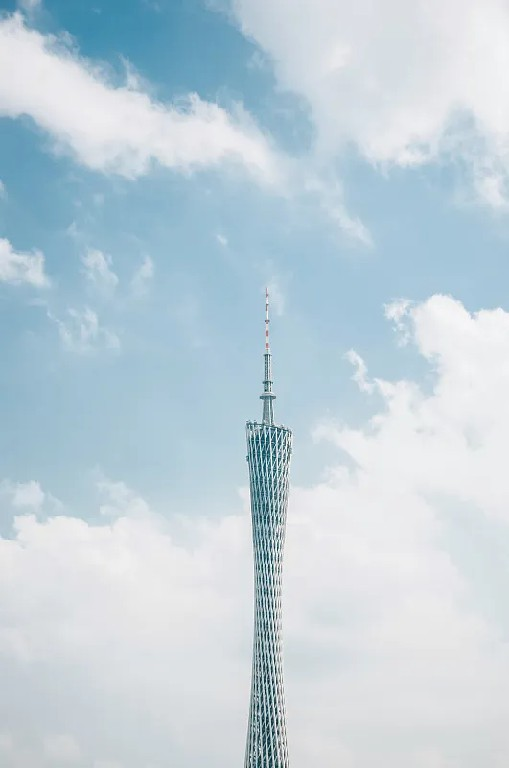Canton: (244, 286, 289, 768)
